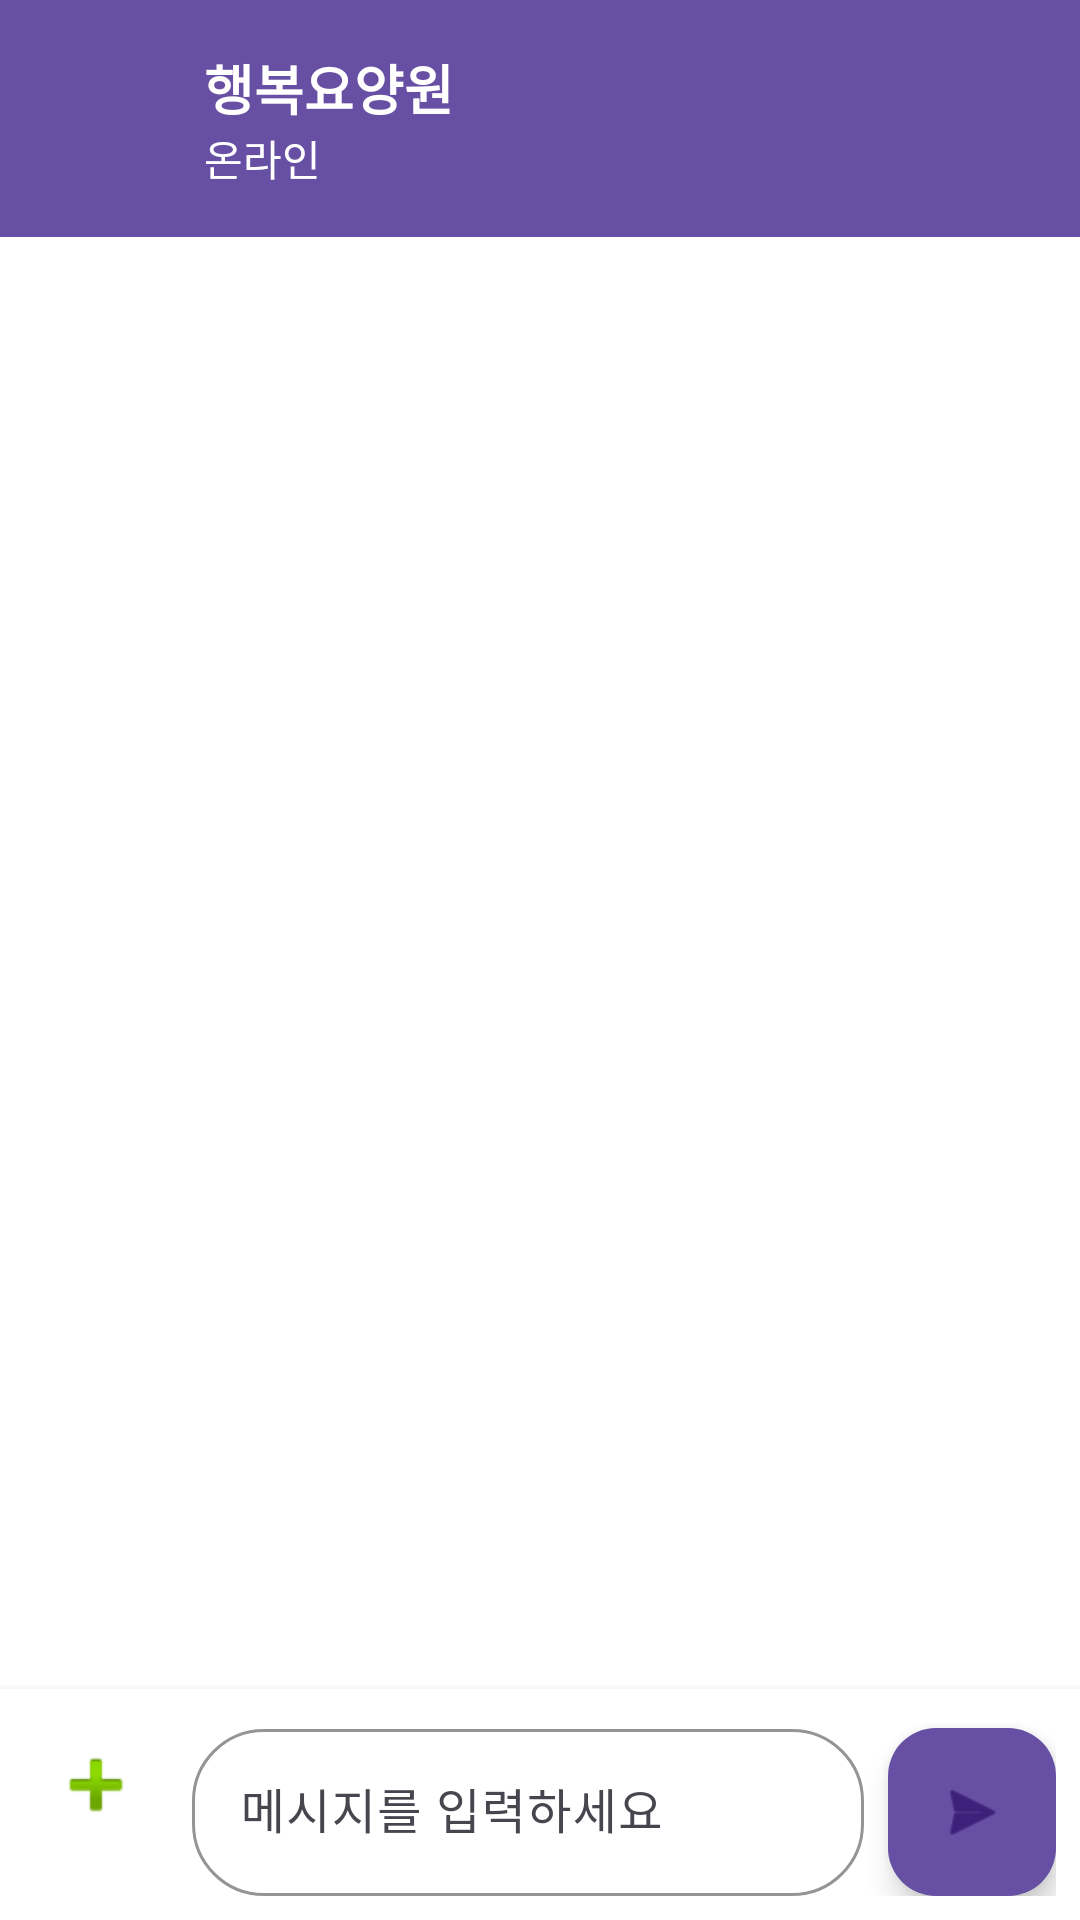

Point at icon controls on the screen. Image size 1080*1920, points as [x,y].
메시지 전송: [972,1812]
첨부파일: [96,1785]
